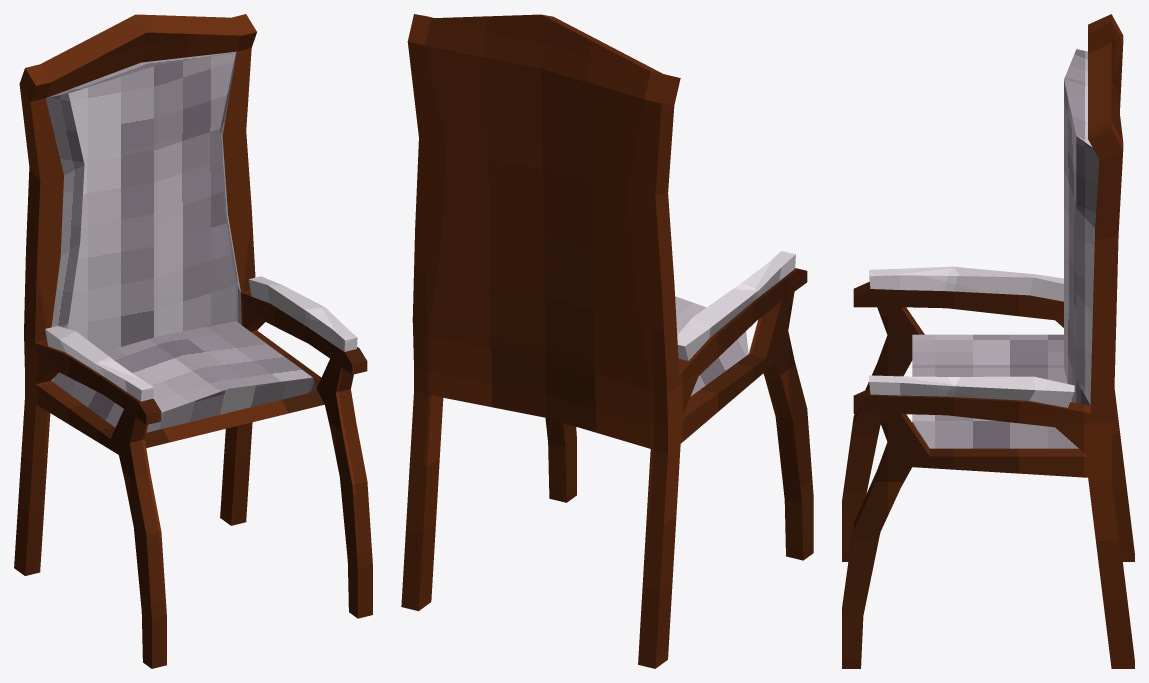
The model's file is Chair.fbx.
The picture shows the model from 3 angles, left to right: view 1: azimuth 30°, elevation 25°; view 2: azimuth 150°, elevation 25°; view 3: azimuth 270°, elevation 25°; orthographic projection. The views are drawn at different scales.
Visible parts, largest first — view 1: Plane.001; view 2: Plane.001; view 3: Plane.001.
Part boxes in pixels (x1,y1,x2,y2): Plane.001: [14, 14, 372, 668]; Plane.001: [401, 14, 813, 668]; Plane.001: [842, 14, 1134, 668].
Size of the model in its own units: 241 by 535 by 250.
